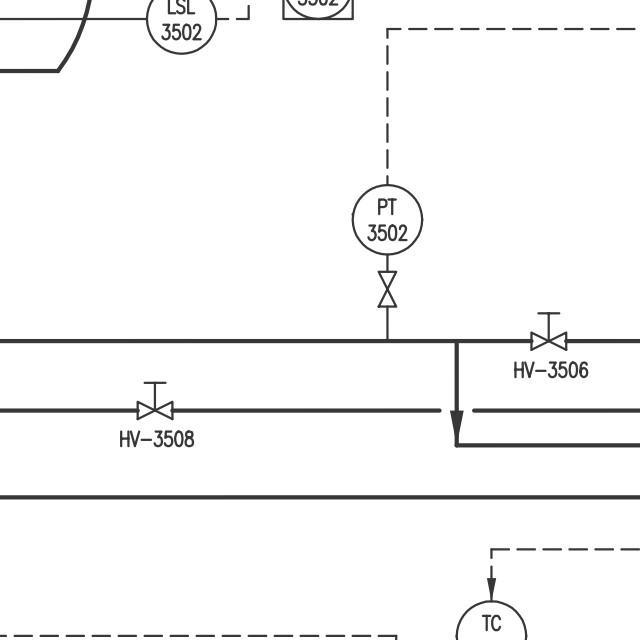GV: (373, 266, 399, 311)
HV: (523, 307, 573, 356), (132, 376, 177, 423)
